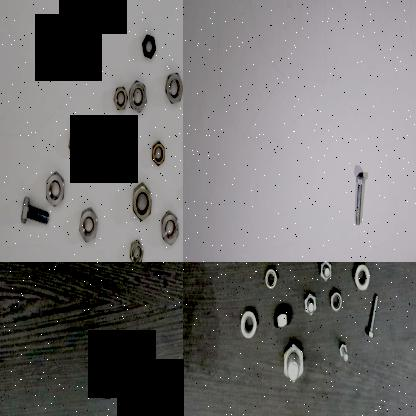Bolts: (282, 341, 308, 386), (18, 195, 52, 229), (364, 287, 386, 338), (352, 169, 368, 229), (303, 289, 318, 318), (317, 262, 335, 284), (338, 341, 350, 365)
NUTS: (131, 179, 153, 225), (77, 205, 99, 245), (160, 210, 182, 247), (239, 304, 260, 342), (128, 78, 148, 116), (44, 172, 66, 206), (163, 71, 183, 107), (99, 367, 117, 405), (271, 304, 293, 334), (67, 127, 84, 160), (260, 265, 280, 293), (149, 139, 168, 168), (106, 132, 124, 162), (112, 84, 130, 114), (353, 262, 370, 293), (126, 237, 147, 262), (140, 34, 158, 62), (328, 287, 346, 313)
